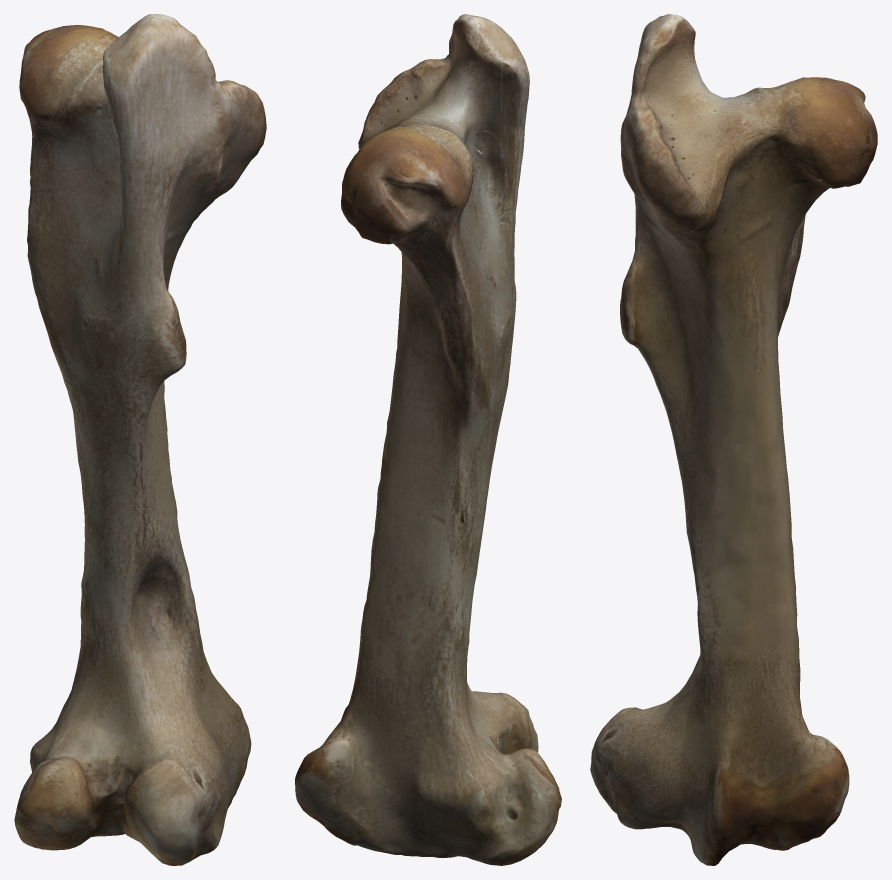
File: 3DModel_LowPoly.obj
3 renders of one model, left to right at view 1: azimuth 30°, elevation 25°; view 2: azimuth 150°, elevation 25°; view 3: azimuth 270°, elevation 25°, orthographic. The views are drawn at different scales.
Bounding box in the file's own units: 0.5484 × 1.92 × 0.6088.
Materials: 1 (1 with a texture image).
